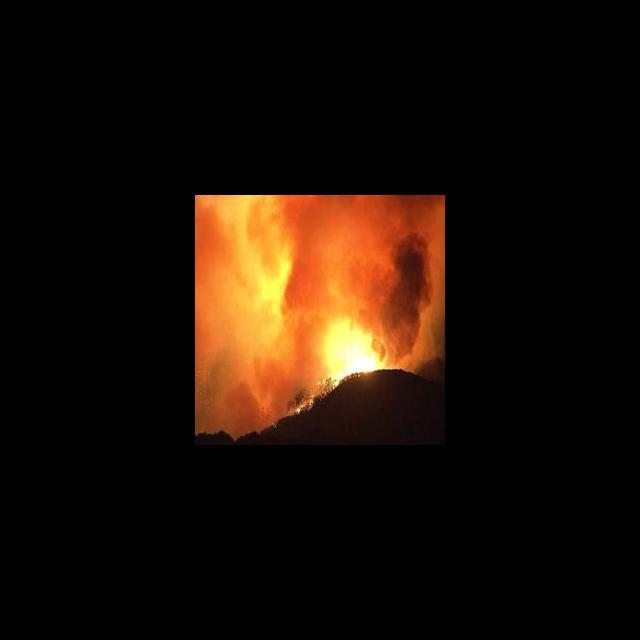Fire: (196, 195, 445, 388)
